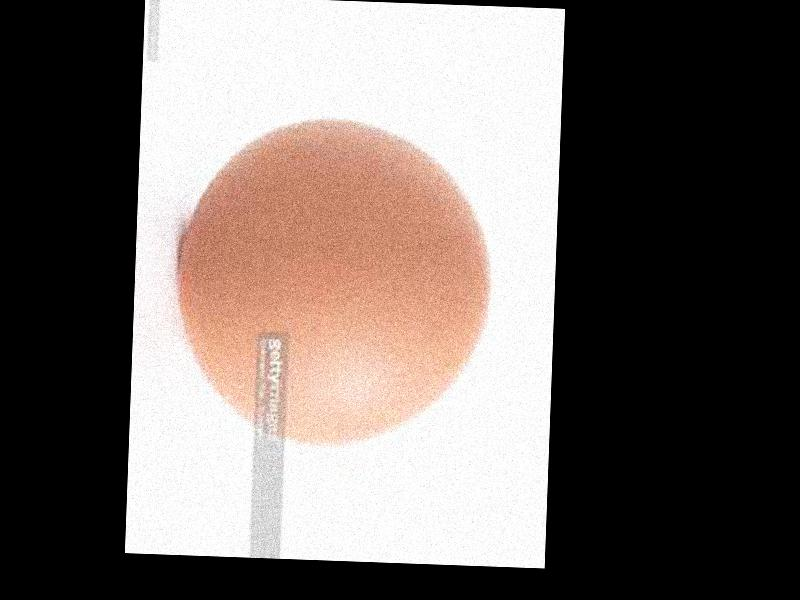Eggs: (179, 115, 496, 452)
